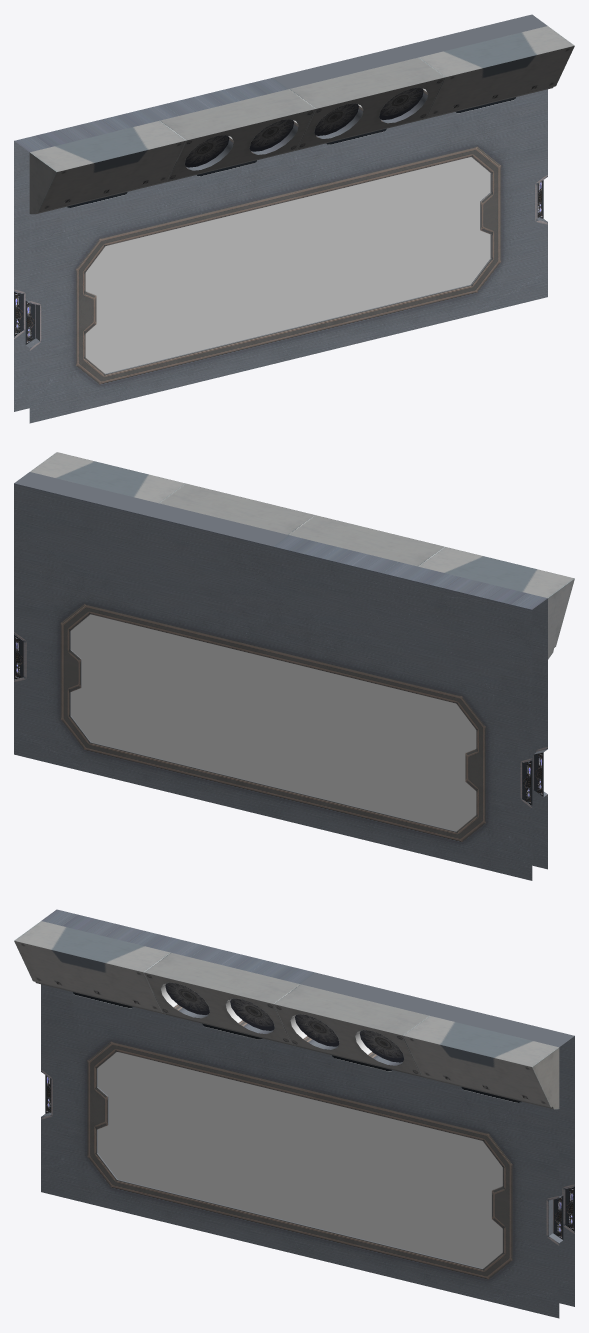
Rendered from DS_SM019_Scifi_Room_WallWindow8M_01.fbx.
The picture shows the model from 3 angles, top to bottom: view 1: azimuth 30°, elevation 25°; view 2: azimuth 150°, elevation 25°; view 3: azimuth 330°, elevation 25°; orthographic projection.
Visible parts, largest first — view 1: DS_SM019_Scifi_Room_WallWindow8M_01; view 2: DS_SM019_Scifi_Room_WallWindow8M_01; view 3: DS_SM019_Scifi_Room_WallWindow8M_01.
Boxes of the visible parts, x1,y1,x2,y2 form: DS_SM019_Scifi_Room_WallWindow8M_01: (14,14,574,423); DS_SM019_Scifi_Room_WallWindow8M_01: (14,452,574,880); DS_SM019_Scifi_Room_WallWindow8M_01: (14,909,574,1318).
Bounding box in the file's own units: 1600 × 800 × 229.
